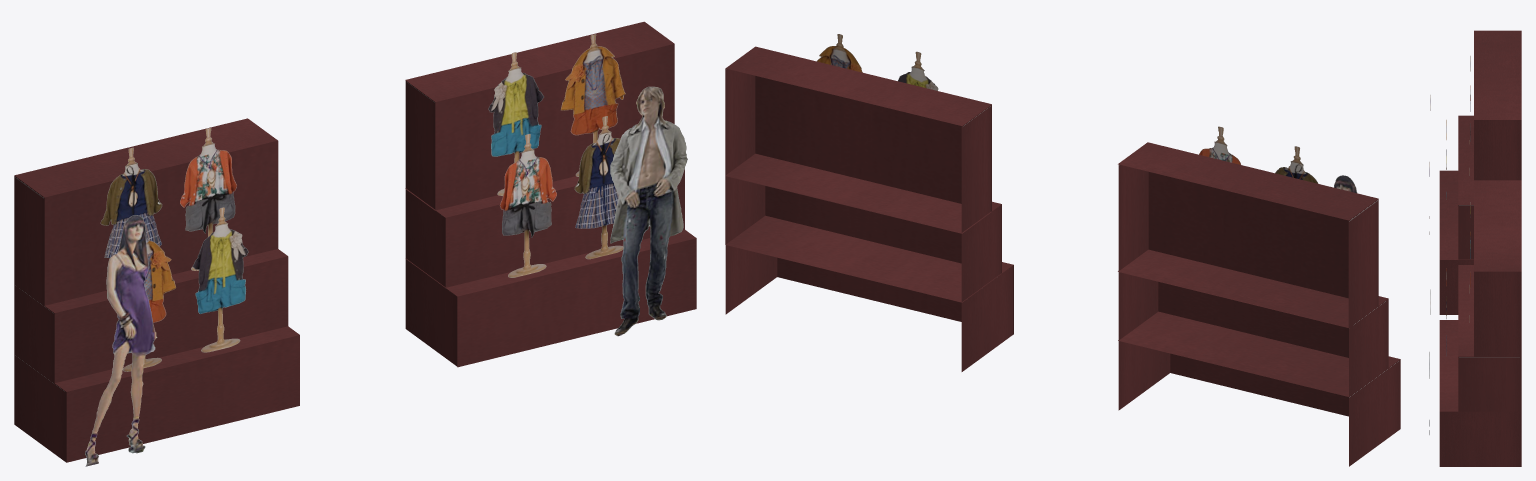
3 renders of one model, left to right at view 1: azimuth 30°, elevation 25°; view 2: azimuth 150°, elevation 25°; view 3: azimuth 270°, elevation 25°, orthographic. The views are drawn at different scales.
Visible parts, largest first — view 1: sd_08; view 2: sd_08; view 3: sd_08.
Part boxes in pixels (x1=…): sd_08: x1=14, y1=21, x2=696, y2=466; sd_08: x1=725, y1=34, x2=1400, y2=466; sd_08: x1=1429, y1=30, x2=1521, y2=466.
Size of the model in its own units: 24.75 by 4 by 11.02.
Materials: 1 (1 with a texture image).
